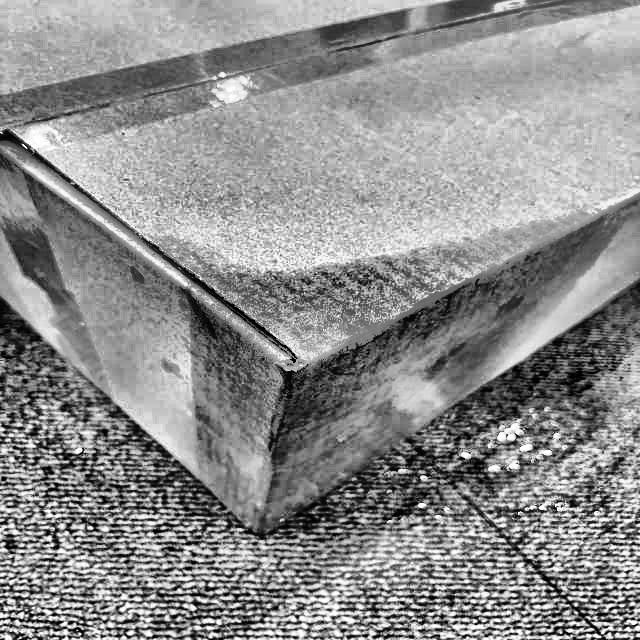box: (0, 0, 640, 546)
wet: (122, 162, 638, 520)
